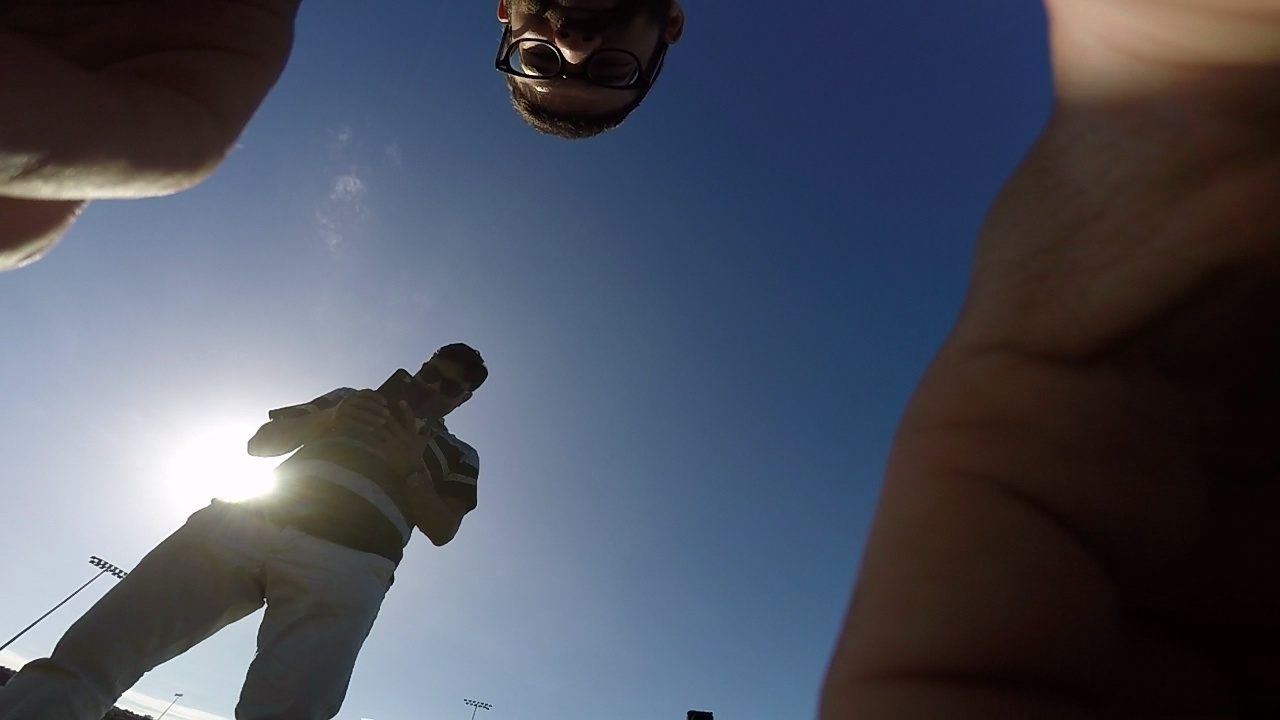person: (323, 0, 1277, 602), (805, 20, 1280, 720), (0, 325, 513, 716), (0, 1, 612, 277), (0, 7, 291, 245)
